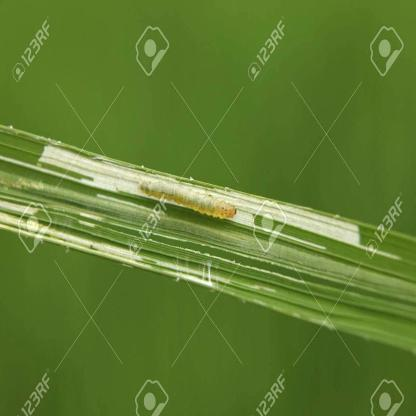leaf-folder: (144, 162, 244, 230)
